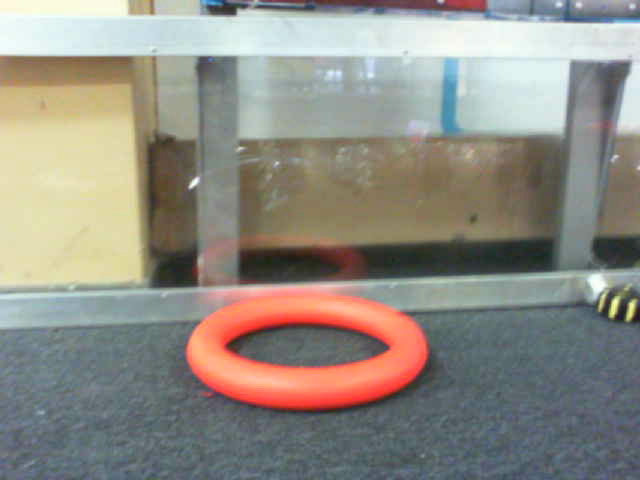Note: (192, 295, 436, 418)
